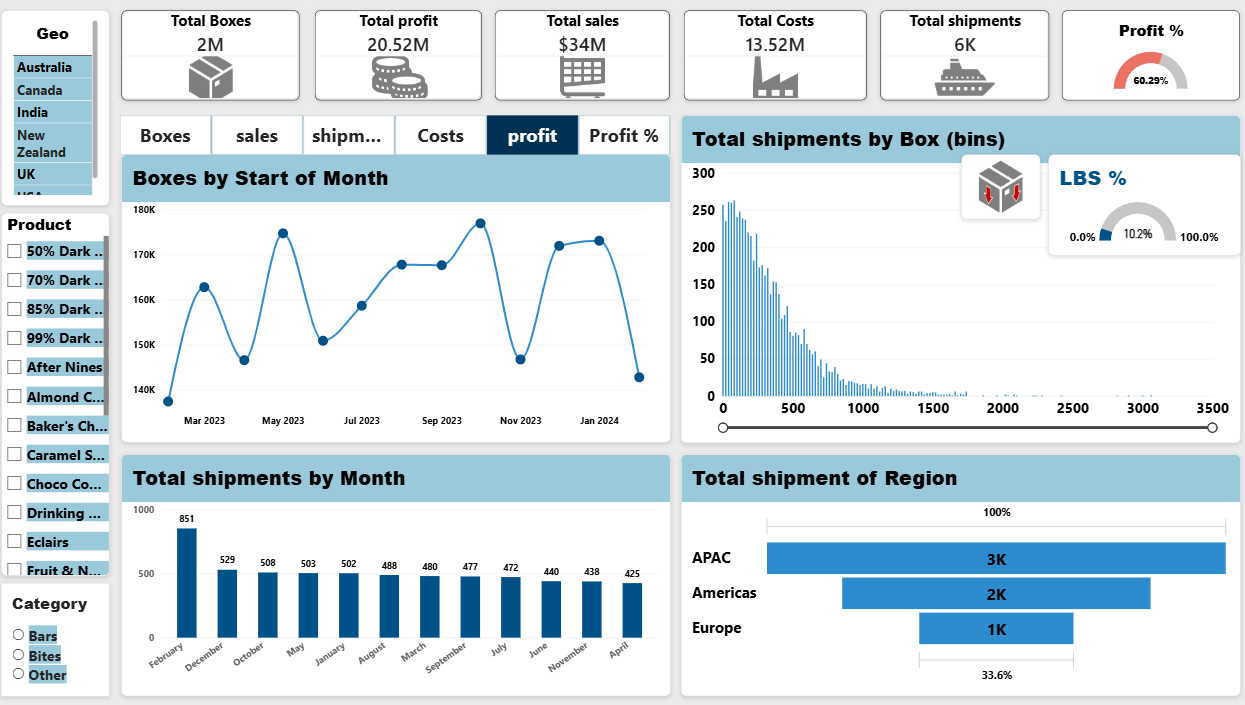

The page's visual inventory and layout, read from the dashboard file:
{"tool":"powerbi","page":{"name":"Shipment","canvas":[1920,1080],"ordinal":1},"visuals":[{"type":"cardVisual","fields":{"Data":["Measure.Total Boxes"]},"box":[202.8,16.7,269.6,136],"z":0},{"type":"cardVisual","fields":{"Data":["Measure.Total profit"]},"box":[496.3,16.7,252.9,136],"z":1000},{"type":"cardVisual","fields":{"Data":["Measure.Total sales"]},"box":[768.3,16.7,264.8,136],"z":2000},{"type":"cardVisual","fields":{"Data":["Measure.Total Costs"]},"box":[1054.6,16.7,276.8,136],"z":3000},{"type":"cardVisual","fields":{"Data":["Measure.Total shipments"]},"box":[1350.4,16.7,255.3,136],"z":4000},{"type":"gauge","fields":{"Y":["Measure.Profit %"]},"box":[1627.2,16.7,269.6,136],"z":5000},{"type":"lineChart","title":"Boxes by Start of Month","fields":{"Category":["calendar.Start of Month"],"Y":["Measure.Total Boxes"]},"box":[202.1,233.9,831.3,436.1],"z":6000},{"type":"advancedSlicerVisual","fields":{"Values":["Measure selector.Measure selector"]},"box":[199.9,174.9,833.6,59.1],"z":7000},{"type":"funnel","title":"Total shipment of Region","fields":{"Category":["locations.Region"],"Y":["Measure.Total shipments"]},"box":[1049.3,688.2,847.2,365.7],"z":8000},{"type":"columnChart","title":"Total shipments by Box (bins)","fields":{"Category":["shipments.Boxes (bins)"],"Y":["Measure.Total shipments"]},"box":[1049.8,174.2,847,496.3],"z":9000},{"type":"gauge","fields":{"Y":["Measure.LBS %"]},"box":[1605.7,233.8,291.1,152.7],"z":10000},{"type":"image","box":[1474.5,233.8,119.3,97.8],"z":11000},{"type":"slicer","fields":{"Values":["shipments.Product"]},"box":[20.4,322.5,163.5,549.7],"z":12000},{"type":"columnChart","title":"Total shipments by Month","fields":{"Category":["calendar.Month Name"],"Y":["Measure.Total shipments"]},"box":[202.1,688.2,831.3,365.7],"z":13000},{"type":"listSlicer","fields":{"Values":["products.Category"]},"box":[20.4,883.5,163.5,170.3],"z":14000},{"type":"tableEx","fields":{"Values":["locations.Geo"]},"box":[20.4,15.9,163.5,295.3],"z":14001}]}

Visuals, with their boxes in screenshot pixels (x1, y1, x2, y2), scaled from the page's 1920x1080 canvas onto the 1245x705 screenshot:
cardVisual - Measure.Total Boxes: {"left": 132, "top": 11, "right": 306, "bottom": 100}
cardVisual - Measure.Total profit: {"left": 322, "top": 11, "right": 486, "bottom": 100}
cardVisual - Measure.Total sales: {"left": 498, "top": 11, "right": 670, "bottom": 100}
cardVisual - Measure.Total Costs: {"left": 684, "top": 11, "right": 863, "bottom": 100}
cardVisual - Measure.Total shipments: {"left": 876, "top": 11, "right": 1041, "bottom": 100}
gauge - Measure.Profit %: {"left": 1055, "top": 11, "right": 1230, "bottom": 100}
"Boxes by Start of Month" lineChart: {"left": 131, "top": 153, "right": 670, "bottom": 437}
advancedSlicerVisual - Measure selector.Measure selector: {"left": 130, "top": 114, "right": 670, "bottom": 153}
"Total shipment of Region" funnel: {"left": 680, "top": 449, "right": 1230, "bottom": 688}
"Total shipments by Box (bins)" columnChart: {"left": 681, "top": 114, "right": 1230, "bottom": 438}
gauge - Measure.LBS %: {"left": 1041, "top": 153, "right": 1230, "bottom": 252}
image: {"left": 956, "top": 153, "right": 1033, "bottom": 216}
slicer - shipments.Product: {"left": 13, "top": 211, "right": 119, "bottom": 569}
"Total shipments by Month" columnChart: {"left": 131, "top": 449, "right": 670, "bottom": 688}
listSlicer - products.Category: {"left": 13, "top": 577, "right": 119, "bottom": 688}
tableEx - locations.Geo: {"left": 13, "top": 10, "right": 119, "bottom": 203}
